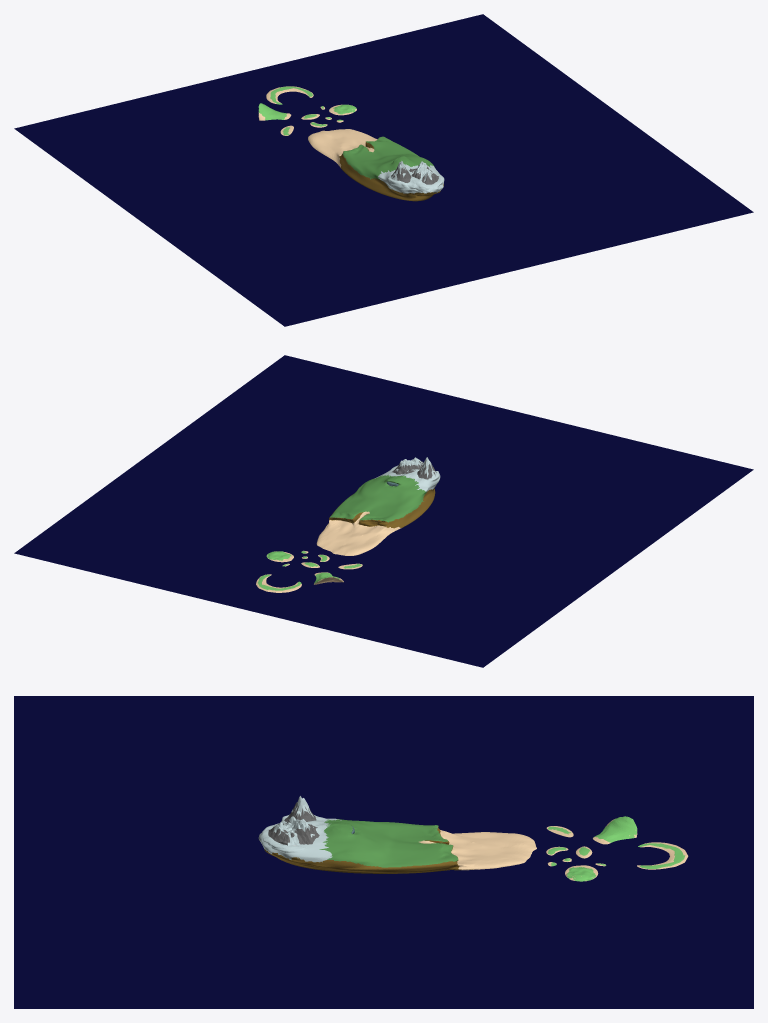
Rendered from hub1.fbx.
3 renders of one model, top to bottom at view 1: azimuth 30°, elevation 25°; view 2: azimuth 150°, elevation 25°; view 3: azimuth 270°, elevation 25°, orthographic. The views are drawn at different scales.
Visible parts, largest first — view 1: water, island; view 2: water, island; view 3: water, island.
Part boxes in pixels (x1,y1,x2,y2): water: (14, 14, 753, 326); island: (258, 86, 444, 201); water: (14, 355, 753, 667); island: (256, 457, 440, 592); water: (14, 696, 753, 1008); island: (258, 796, 688, 881).
Size of the model in its own units: 259586 by 25638 by 259586.
